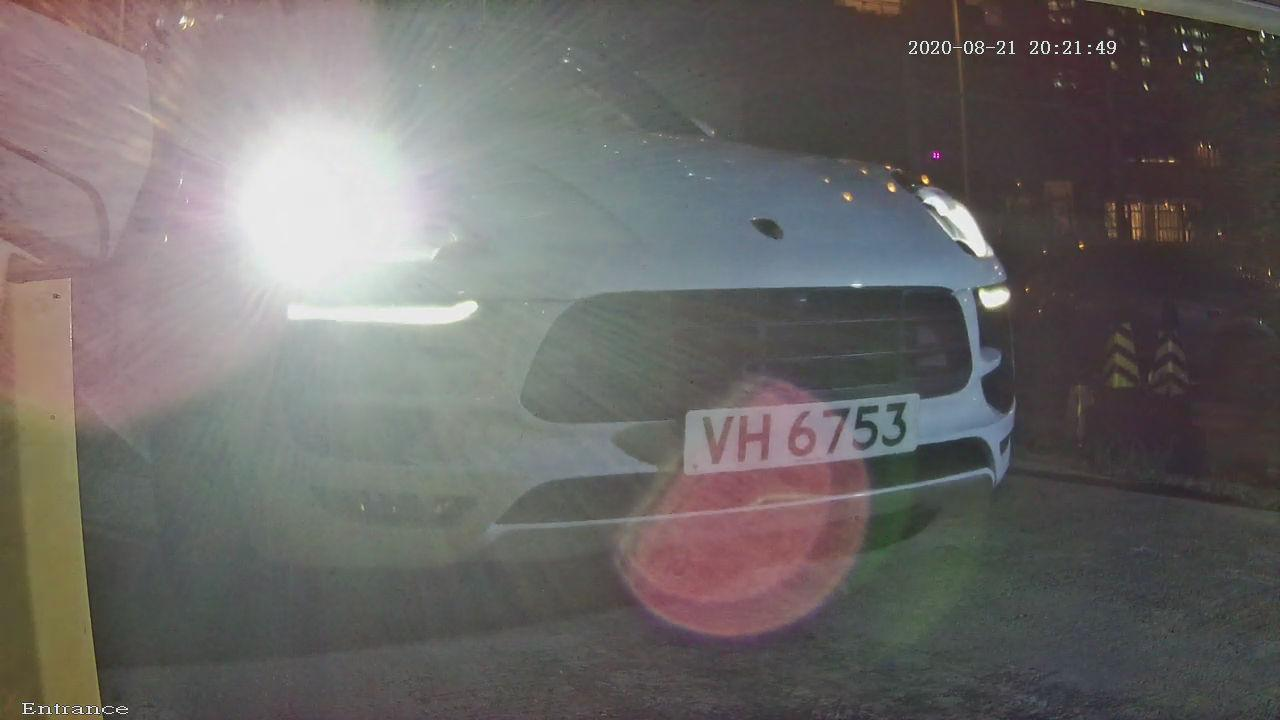License Plate: (663, 377, 949, 492)
